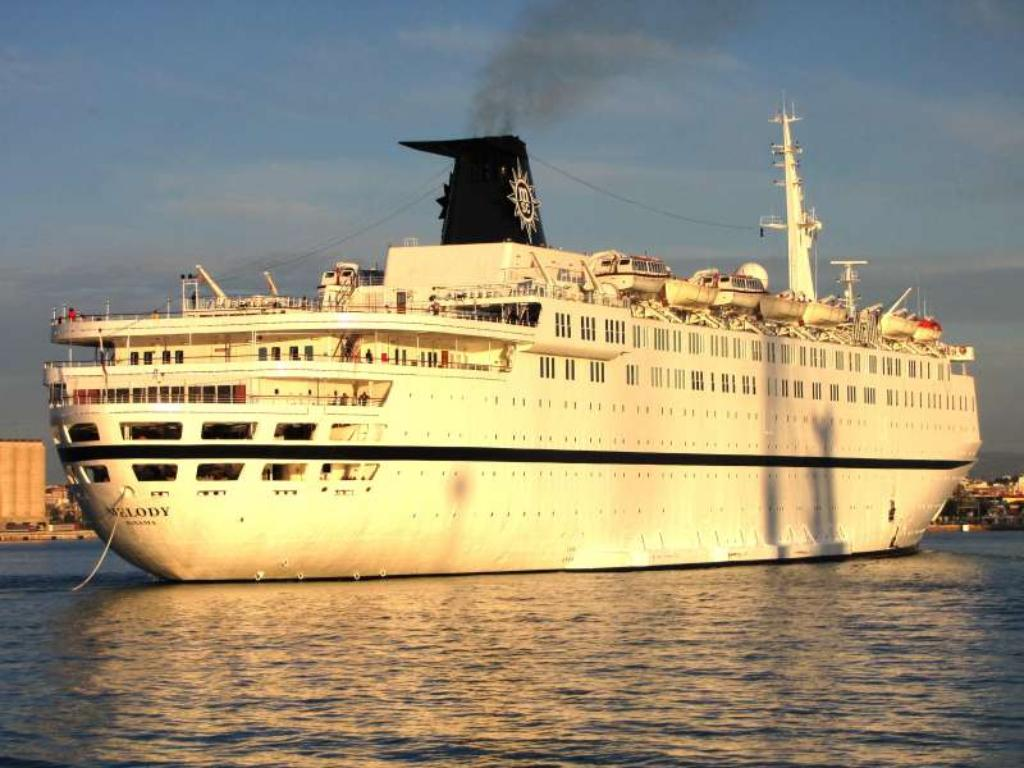PassengerShip: (29, 98, 1003, 586)
